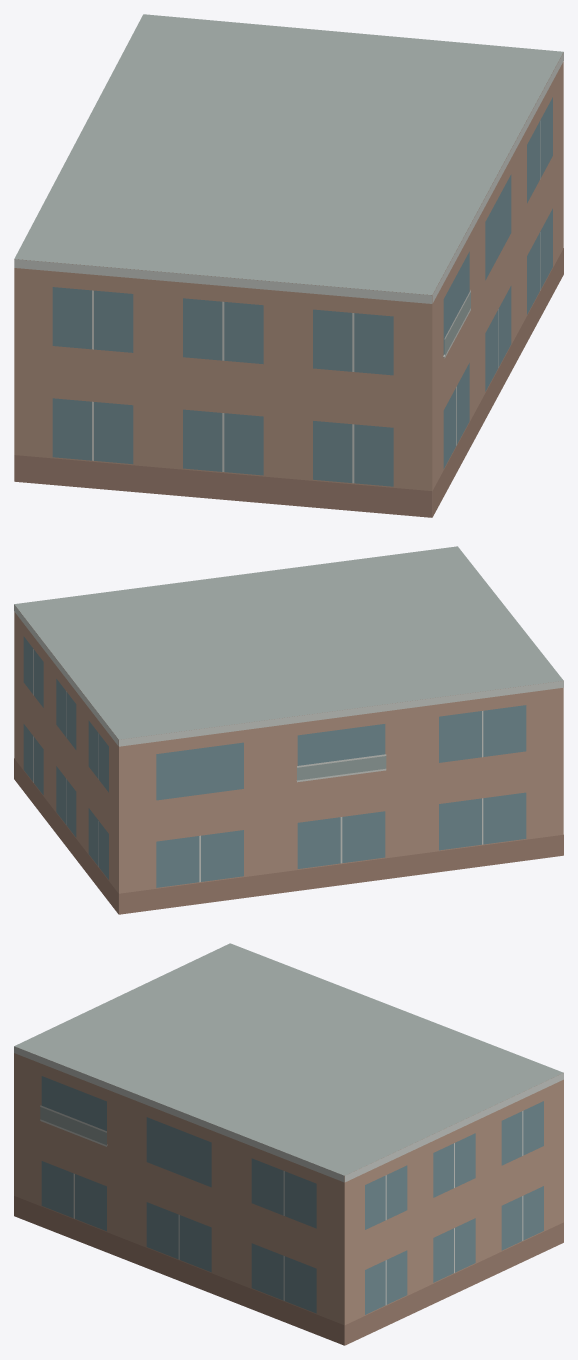
The model's file is survey-upis-32883328.glb.
3 views of the same model, one above another, from view 1: azimuth 30°, elevation 25°; view 2: azimuth 150°, elevation 25°; view 3: azimuth 270°, elevation 25° (orthographic). The views are drawn at different scales.
Parts seen in each view (by area): view 1: survey-upis-32883328.tmp; view 2: survey-upis-32883328.tmp; view 3: survey-upis-32883328.tmp.
Part boxes in pixels (box(x1,y1,x2,y2)): survey-upis-32883328.tmp: box(14, 14, 563, 517); survey-upis-32883328.tmp: box(14, 546, 563, 914); survey-upis-32883328.tmp: box(14, 943, 563, 1345).
Size of the model in its own units: 17.92 by 6.1 by 17.9.
